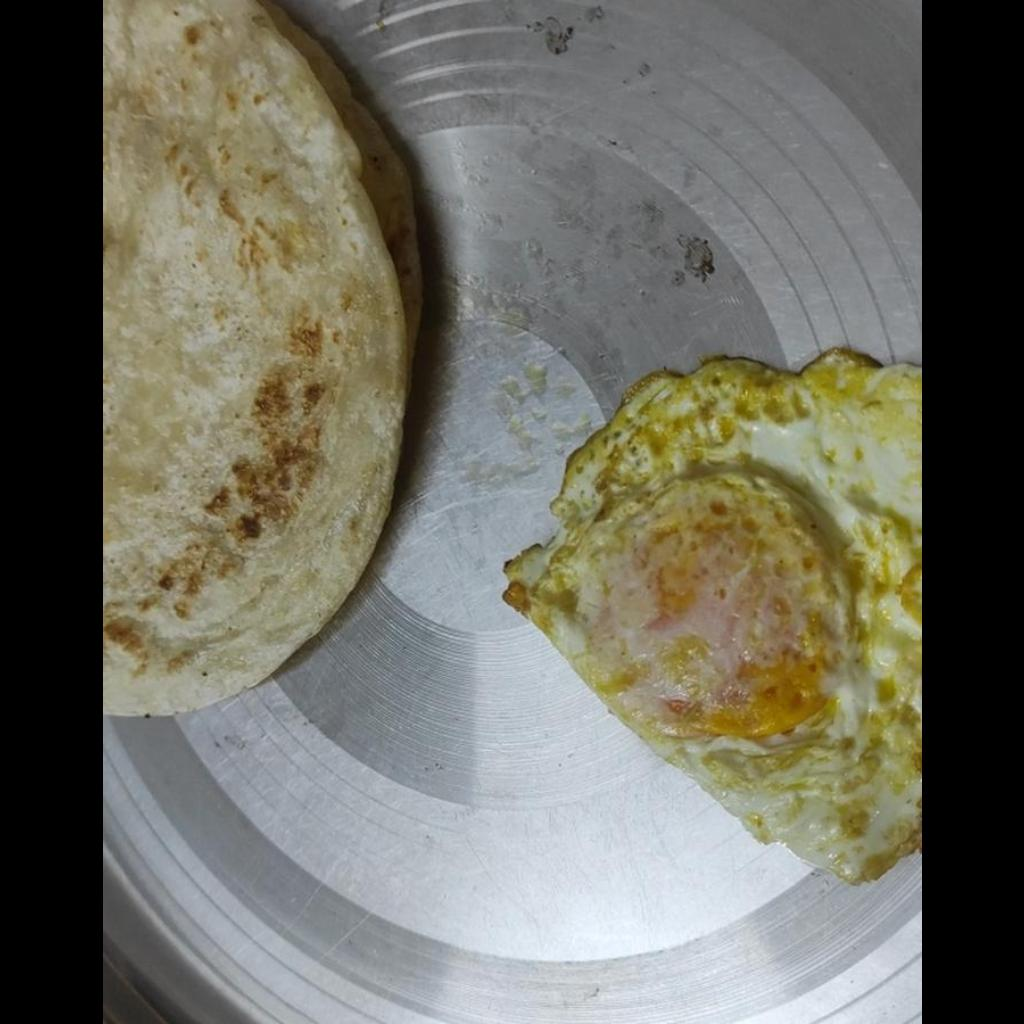egg-poached: (499, 345, 920, 888)
ruti: (106, 1, 422, 722)
